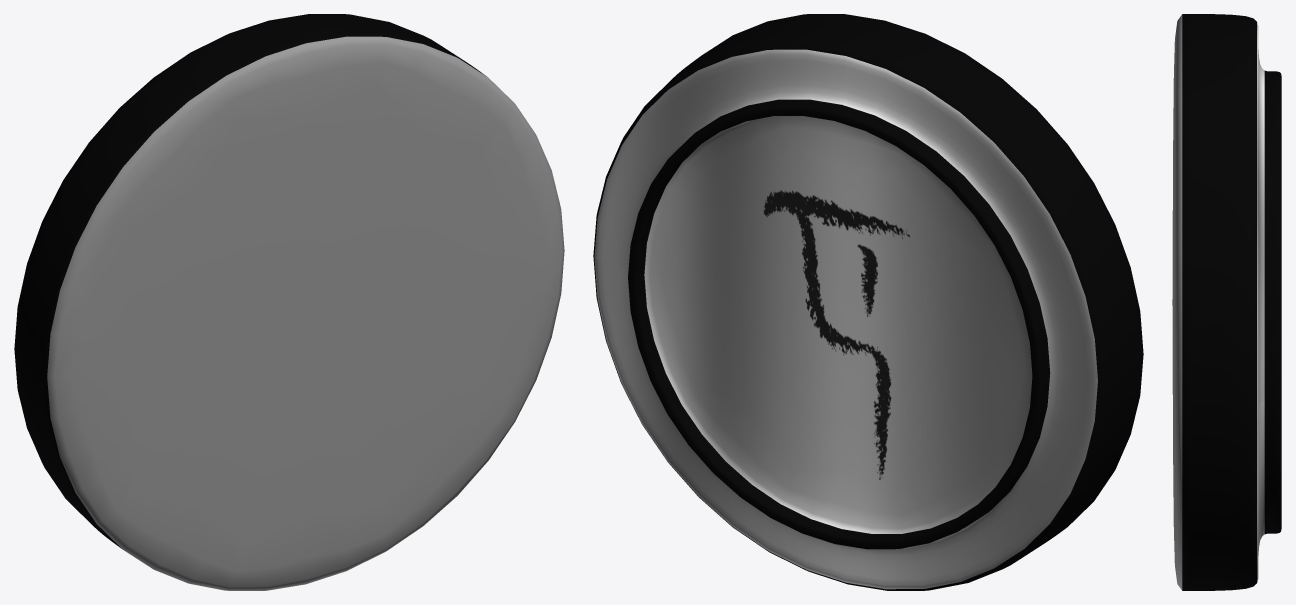
3 views of the same model, side by side, from view 1: azimuth 30°, elevation 25°; view 2: azimuth 150°, elevation 25°; view 3: azimuth 270°, elevation 25° (orthographic). The views are drawn at different scales.
Parts seen in each view (by area): view 1: bouton2; view 2: bouton2; view 3: bouton2.
Boxes of the visible parts, x1,y1,x2,y2 form: bouton2: (14, 14, 564, 590); bouton2: (593, 14, 1143, 590); bouton2: (1172, 14, 1281, 590).
Size of the model in its own units: 4.98 by 4.98 by 0.9397.
3 materials, 1 textured.
